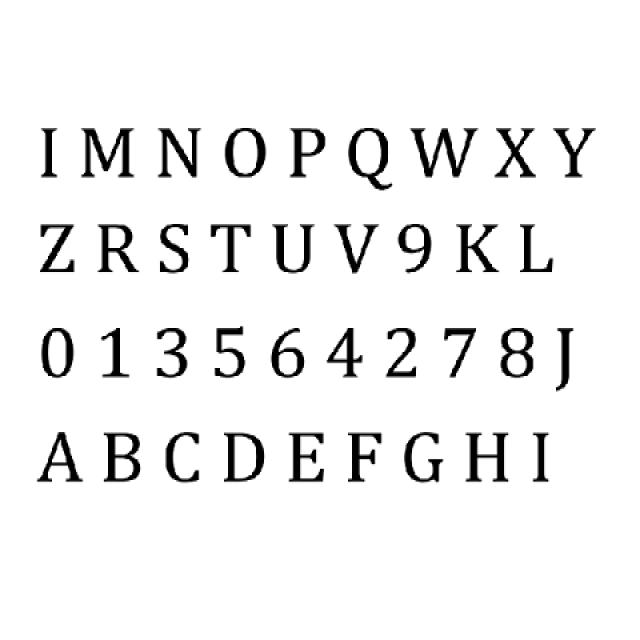0: (40, 324, 77, 383)
1: (101, 324, 134, 385), (553, 322, 578, 398)
2: (383, 322, 419, 386)
3: (156, 319, 193, 382)
4: (328, 325, 364, 384)
5: (210, 321, 248, 382)
6: (268, 324, 307, 382)
7: (444, 323, 479, 384)
8: (500, 325, 534, 384)
9: (397, 218, 435, 278)
A: (38, 428, 84, 489)
B: (100, 423, 141, 487)
C: (162, 428, 204, 489)
D: (221, 431, 265, 489)
E: (286, 426, 328, 491)
F: (344, 429, 383, 488)
G: (404, 426, 447, 491)
H: (464, 426, 511, 488)
I: (524, 427, 556, 487), (36, 122, 60, 186)
K: (452, 216, 502, 279)
L: (516, 218, 559, 278)
M: (78, 123, 138, 181)
N: (159, 121, 204, 181)
O: (220, 119, 266, 180)
P: (287, 122, 325, 184)
Q: (346, 122, 393, 194)
R: (98, 218, 141, 282)
S: (157, 217, 192, 281)
T: (214, 219, 256, 281)
U: (272, 215, 316, 277)
V: (335, 220, 380, 280)
W: (410, 125, 478, 183)
X: (494, 118, 536, 184)
Y: (551, 117, 596, 182)
Z: (37, 213, 78, 275)
